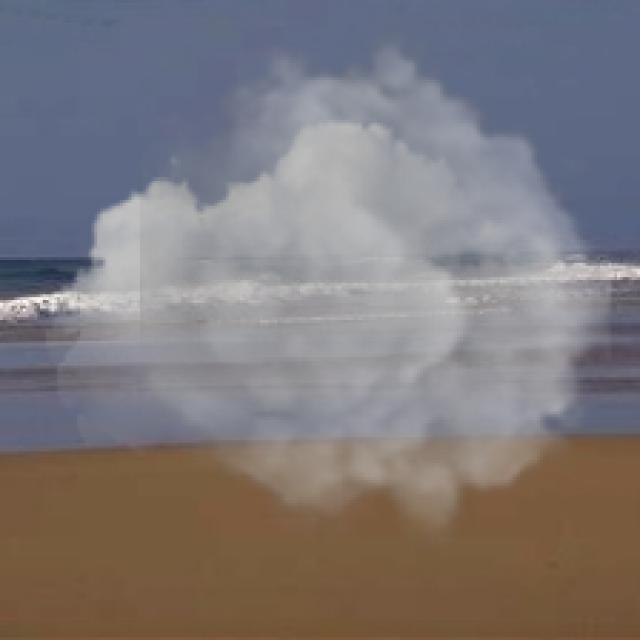smoke: (46, 23, 611, 551)
